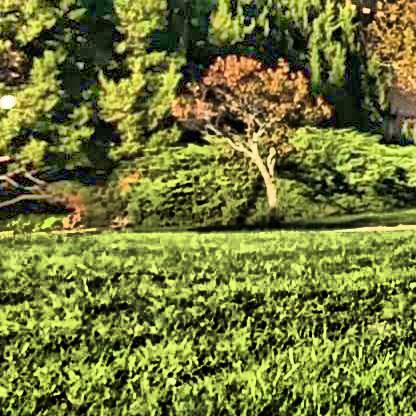golfball: (0, 91, 15, 106)
